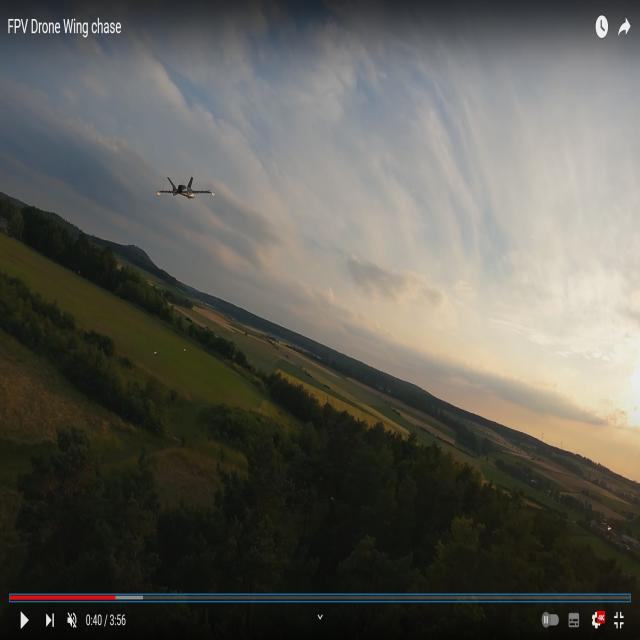iha: (158, 188, 213, 205)
